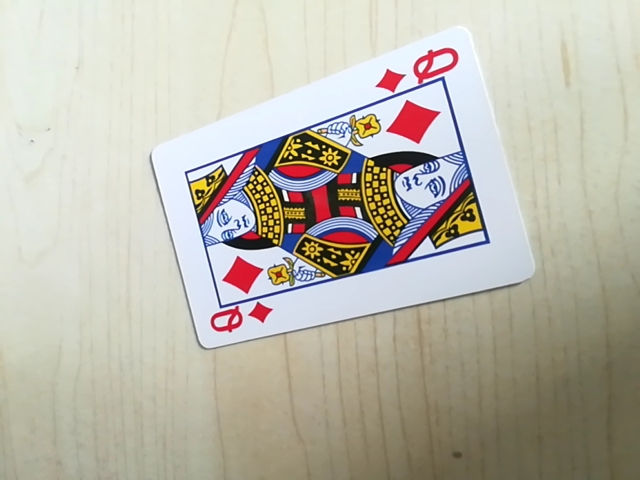fk q: (371, 42, 465, 97), (203, 295, 274, 340)
